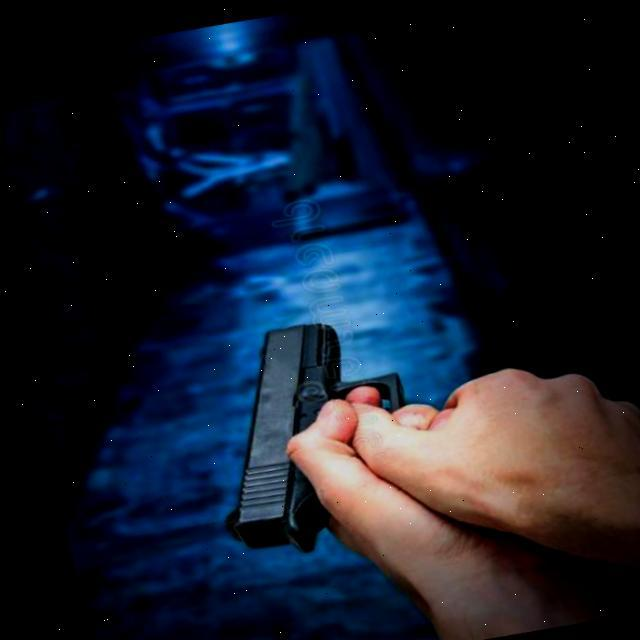gun: (165, 293, 448, 586)
